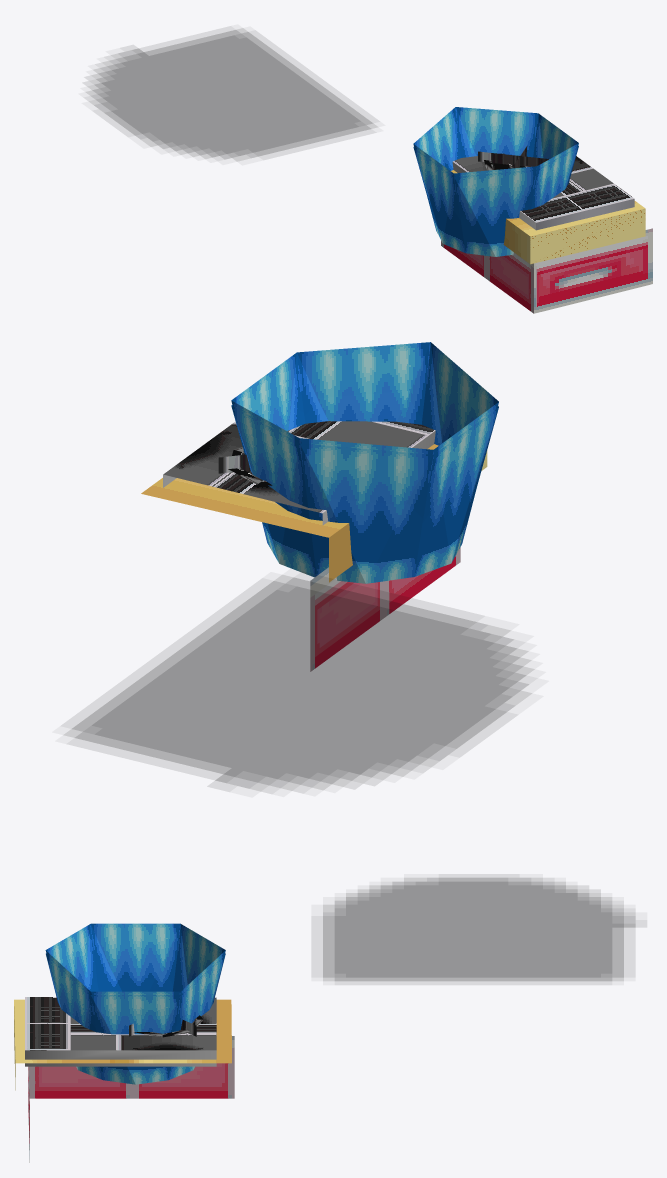
3 renders of one model, top to bottom at view 1: azimuth 30°, elevation 25°; view 2: azimuth 150°, elevation 25°; view 3: azimuth 270°, elevation 25°, orthographic. The views are drawn at different scales.
Visible parts, largest first — view 1: uma_ct_konro; view 2: uma_ct_konro; view 3: uma_ct_konro.
Boxes of the visible parts, left/top/right/bottom form: uma_ct_konro: left=86, top=28, right=652, bottom=313; uma_ct_konro: left=64, top=342, right=533, bottom=790; uma_ct_konro: left=14, top=877, right=635, bottom=1162.
Size of the model in its own units: 2.69 by 0.9988 by 3.75.
Materials: 7 (7 with a texture image).
